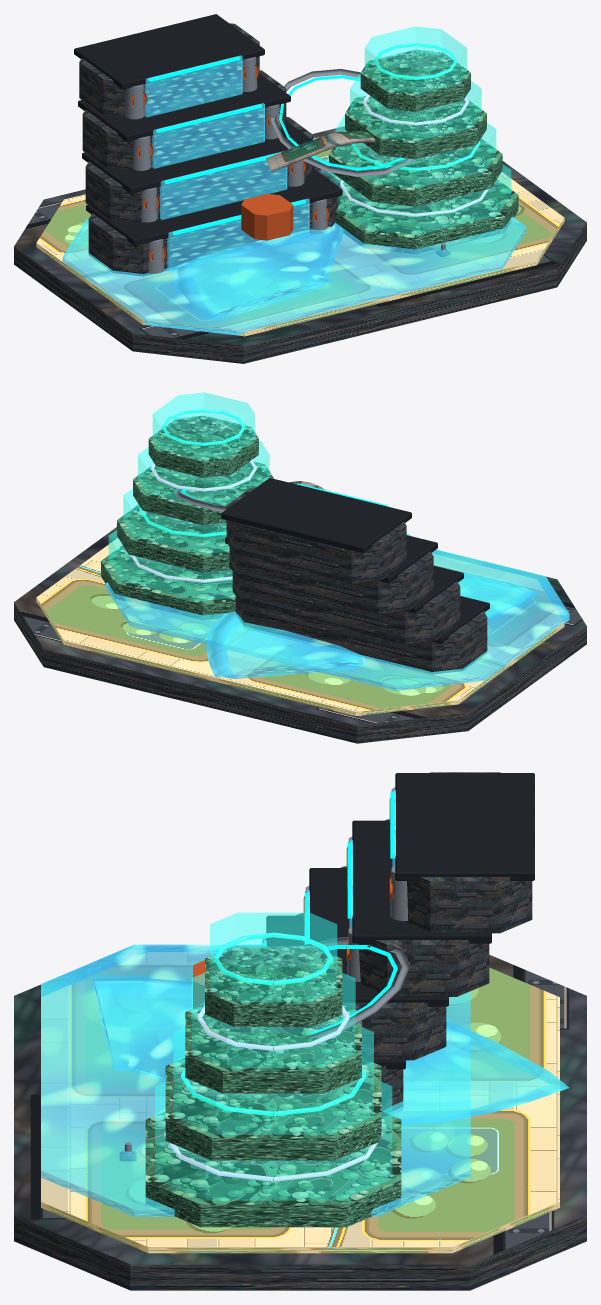
Rendered from interior_setpiece_02_terraced_waterfall_reservoir.glb.
3 renders of one model, top to bottom at view 1: azimuth 30°, elevation 25°; view 2: azimuth 150°, elevation 25°; view 3: azimuth 270°, elevation 25°, orthographic. The views are drawn at different scales.
Visible parts, largest first — view 1: Setpiece02_C02_cliff_basalt, Setpiece02_C02_water_river, Setpiece02_C02_biome_canopy, Setpiece02_C02_promenade_paving, Setpiece02_C02_glass_emerald, Setpiece02_C02_gunmetal, Setpiece02_C02_steel_machined, Setpiece02_C02_accent_orange, Setpiece02_C02_led_cyan, Setpiece02_C02_copper_bridge, Setpiece02_C02_led_emerald, Setpiece02_C02_led_uv; view 2: Setpiece02_C02_cliff_basalt, Setpiece02_C02_promenade_paving, Setpiece02_C02_biome_canopy, Setpiece02_C02_water_river, Setpiece02_C02_glass_emerald, Setpiece02_C02_gunmetal, Setpiece02_C02_led_emerald, Setpiece02_C02_led_uv; view 3: Setpiece02_C02_promenade_paving, Setpiece02_C02_cliff_basalt, Setpiece02_C02_biome_canopy, Setpiece02_C02_water_river, Setpiece02_C02_glass_emerald, Setpiece02_C02_gunmetal, Setpiece02_C02_steel_machined, Setpiece02_C02_led_emerald, Setpiece02_C02_led_uv, Setpiece02_C02_led_cyan, Setpiece02_C02_accent_orange.
Part boxes in pixels (x1,y1,x2,y2): Setpiece02_C02_cliff_basalt: (14,23,586,363); Setpiece02_C02_water_river: (62,55,526,335); Setpiece02_C02_biome_canopy: (329,49,518,253); Setpiece02_C02_promenade_paving: (36,131,564,336); Setpiece02_C02_glass_emerald: (320,26,511,234); Setpiece02_C02_gunmetal: (74,14,342,245); Setpiece02_C02_steel_machined: (125,57,445,273); Setpiece02_C02_accent_orange: (130,65,330,262); Setpiece02_C02_led_cyan: (149,56,404,235); Setpiece02_C02_copper_bridge: (266,131,375,171); Setpiece02_C02_led_emerald: (351,43,480,171); Setpiece02_C02_led_uv: (340,94,488,216); Setpiece02_C02_cliff_basalt: (14,487,586,743); Setpiece02_C02_promenade_paving: (36,538,564,715); Setpiece02_C02_biome_canopy: (101,415,273,619); Setpiece02_C02_water_river: (106,483,569,690); Setpiece02_C02_glass_emerald: (108,392,269,600); Setpiece02_C02_gunmetal: (221,478,489,643); Setpiece02_C02_led_emerald: (139,409,245,537); Setpiece02_C02_led_uv: (130,460,256,582); Setpiece02_C02_promenade_paving: (41,952,559,1253); Setpiece02_C02_cliff_basalt: (14,772,586,1290); Setpiece02_C02_biome_canopy: (145,946,401,1227); Setpiece02_C02_water_river: (41,790,569,1216); Setpiece02_C02_glass_emerald: (155,912,392,1200); Setpiece02_C02_gunmetal: (266,773,534,1069); Setpiece02_C02_steel_machined: (124,787,409,1155); Setpiece02_C02_led_emerald: (181,932,366,1116); Setpiece02_C02_led_uv: (164,1005,382,1181); Setpiece02_C02_led_cyan: (261,792,397,1034); Setpiece02_C02_accent_orange: (193,798,393,1008).
Size of the model in its own units: 42 by 17.55 by 32.
Materials: 13 (13 with a texture image).
